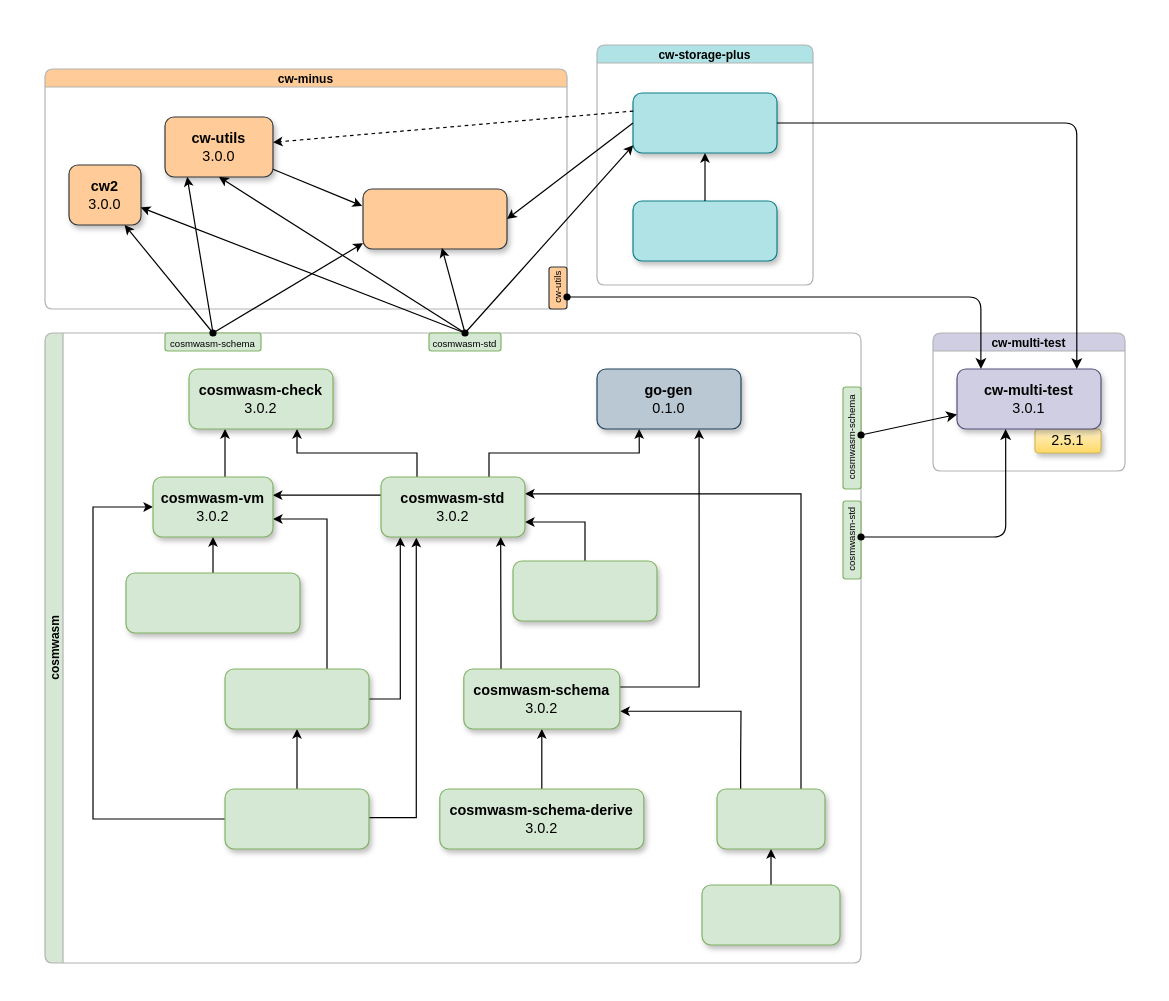
This 1169x1001 diagram has some shape labels left out. Each missing label, with the centre of its shape:
"cosmwasm-core 3.0.2" goes at pixel 297 820.
"cosmwasm-crypto 3.0.2" goes at pixel 297 700.
"cosmwasm-derive 3.0.2" goes at pixel 585 592.
"cosmwasm-vm-derive 3.0.2" goes at pixel 213 604.
"cw-controllers 3.0 .0" goes at pixel 435 220.
"cw-schema 3.0.2" goes at pixel 771 820.
"cw-schema-derive 3.0.2" goes at pixel 771 916.
"cw-storage-macro 3.0.1" goes at pixel 705 232.
"cw-storage-plus 3.0.1" goes at pixel 705 124.
